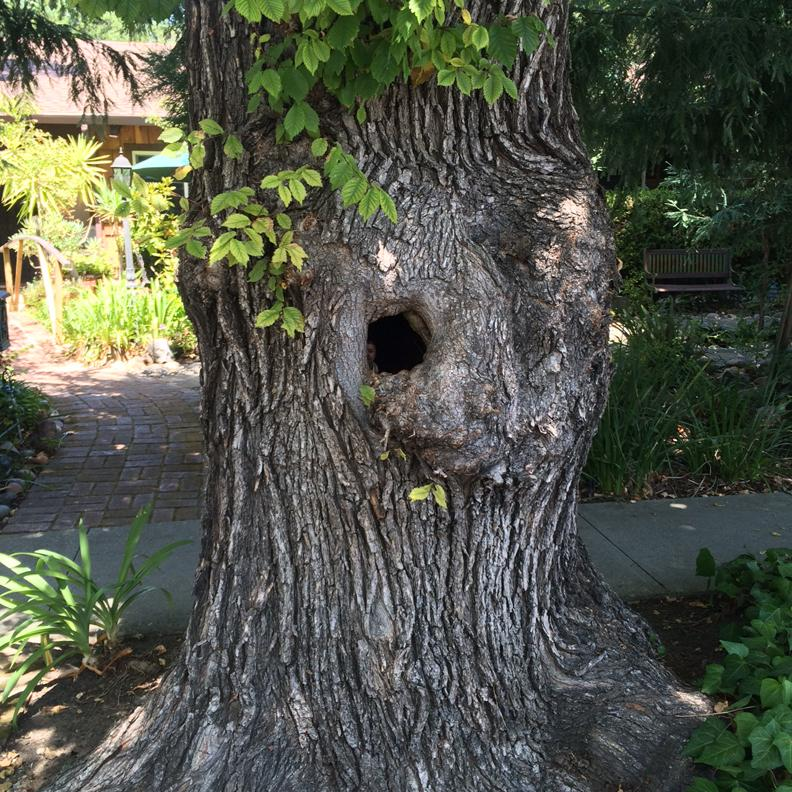hollow: (367, 313, 426, 372)
